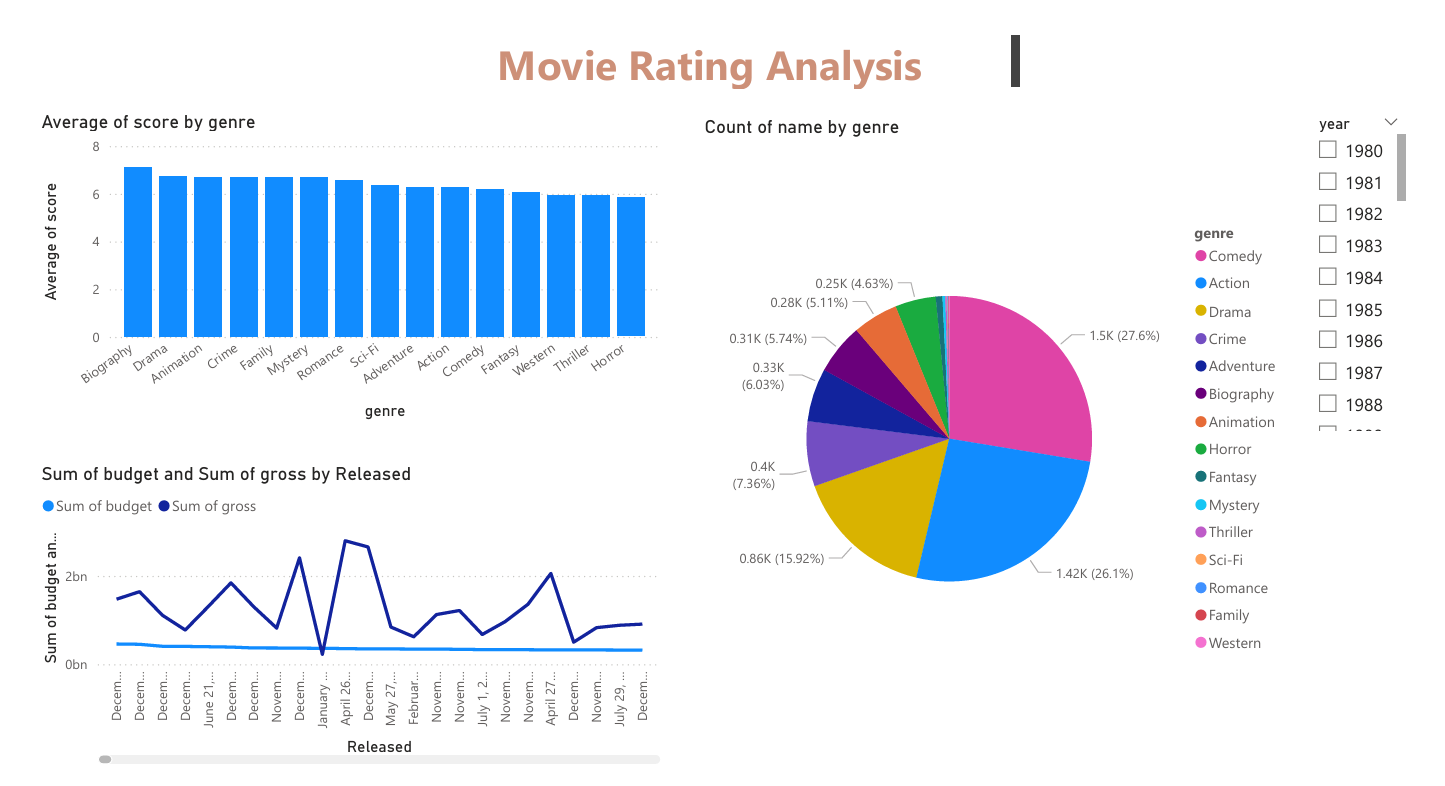

The dashboard page shown, as its layout file describes it:
{"tool":"powerbi","page":{"name":"Page 1","canvas":[1280,720],"ordinal":0},"visuals":[{"type":"columnChart","fields":{"Category":["cleaned_movies.genre"],"Y":["Avg(cleaned_movies.score)"]},"box":[9.9,58,576.5,279.9],"z":0},{"type":"lineChart","fields":{"Category":["cleaned_movies.released"],"Y":["Sum(cleaned_movies.budget)","Sum(cleaned_movies.gross)"]},"box":[9.9,382.6,576.5,279.9],"z":1},{"type":"pieChart","fields":{"Category":["cleaned_movies.genre"],"Y":["CountNonNull(cleaned_movies.name)"]},"box":[664.2,71.2,541.7,311.4],"z":2},{"type":"slicer","fields":{"Values":["cleaned_movies.year"]},"box":[834.9,405.8,270,298.2],"z":3}]}

Visuals, with their boxes on the page's 1280x720 design canvas (x1, y1, x2, y2). These are canvas units, not pixel positions in the 1445x786 screenshot, which may show the page scaled, cropped or inside an application window:
columnChart - cleaned_movies.genre x Avg(cleaned_movies.score): [10,58,586,338]
lineChart - cleaned_movies.released x Sum(cleaned_movies.budget): [10,383,586,662]
pieChart - cleaned_movies.genre x CountNonNull(cleaned_movies.name): [664,71,1206,383]
slicer - cleaned_movies.year: [835,406,1105,704]
